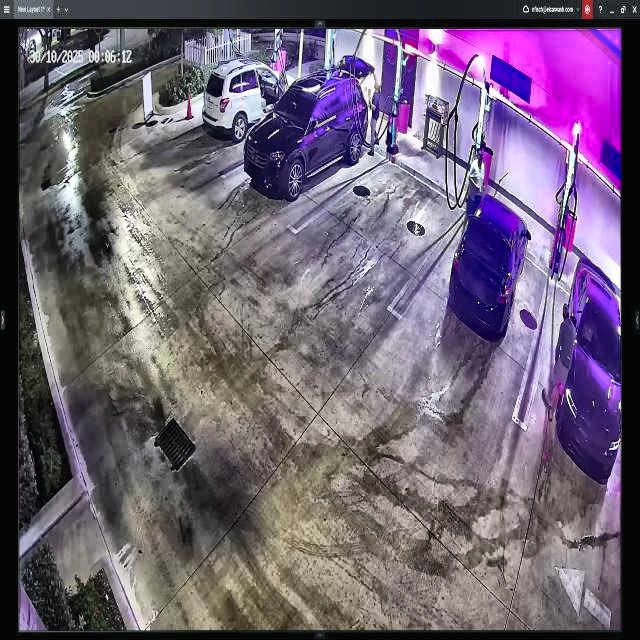Car: (242, 69, 372, 204), (451, 196, 532, 340)
